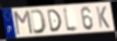6: (80, 5, 94, 32)
D: (30, 9, 48, 35), (46, 8, 63, 33)
K: (95, 6, 111, 30)
L: (62, 5, 81, 34)
M: (14, 10, 35, 37)
